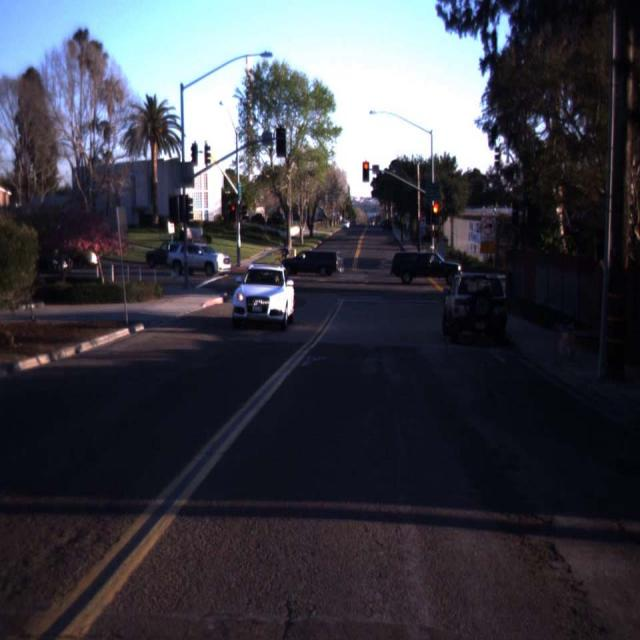kirmizi: (432, 205, 439, 226), (363, 162, 369, 182)
